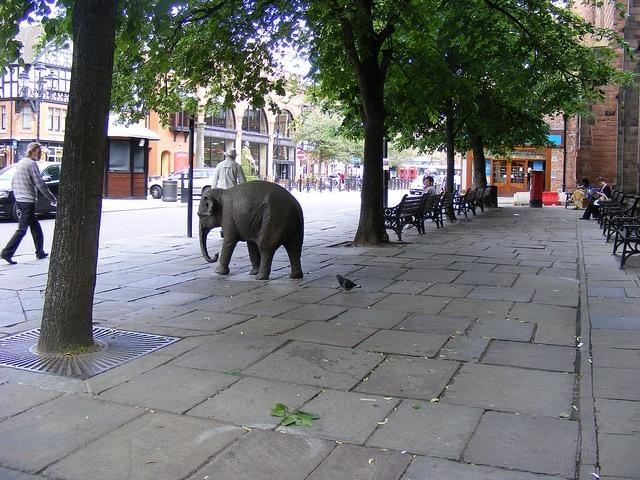car: (0, 160, 61, 222), (146, 169, 216, 198)
